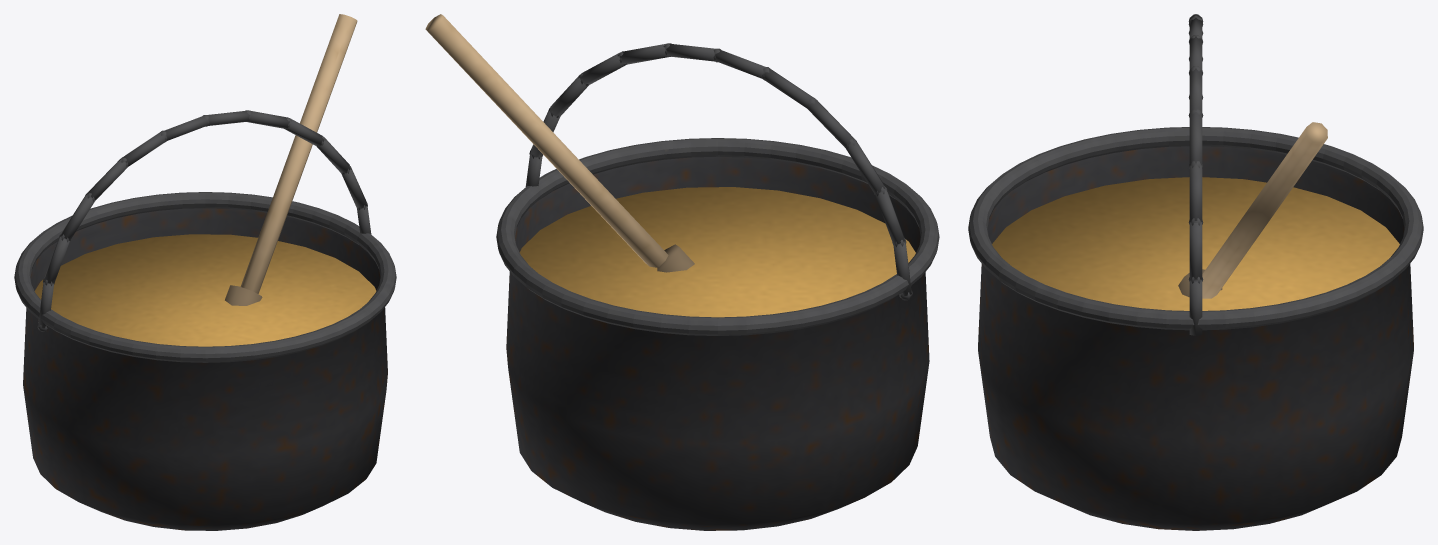
Rendered from FL_HideGluePotCooked.fbx.
The picture shows the model from 3 angles, left to right: view 1: azimuth 30°, elevation 25°; view 2: azimuth 150°, elevation 25°; view 3: azimuth 270°, elevation 25°; orthographic projection. The views are drawn at different scales.
Visible parts, largest first — view 1: FL_HideGluePotCooked; view 2: FL_HideGluePotCooked; view 3: FL_HideGluePotCooked.
Boxes of the visible parts, <box> form: FL_HideGluePotCooked: <box>14,14,396,530</box>; FL_HideGluePotCooked: <box>425,14,939,530</box>; FL_HideGluePotCooked: <box>968,14,1423,530</box>.
Size of the model in its own units: 0.0174 by 0.0169 by 0.0157.
